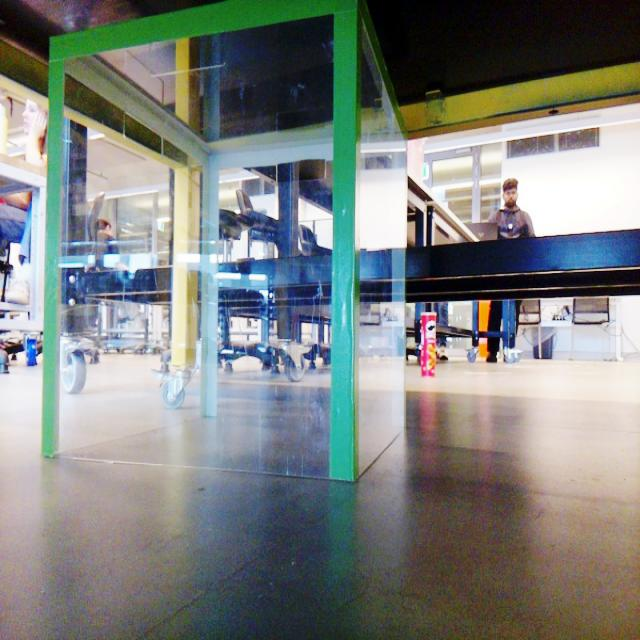redpringles: (423, 304, 446, 390)
